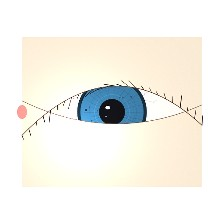pinguecula_lesion: (37, 90, 76, 121)
